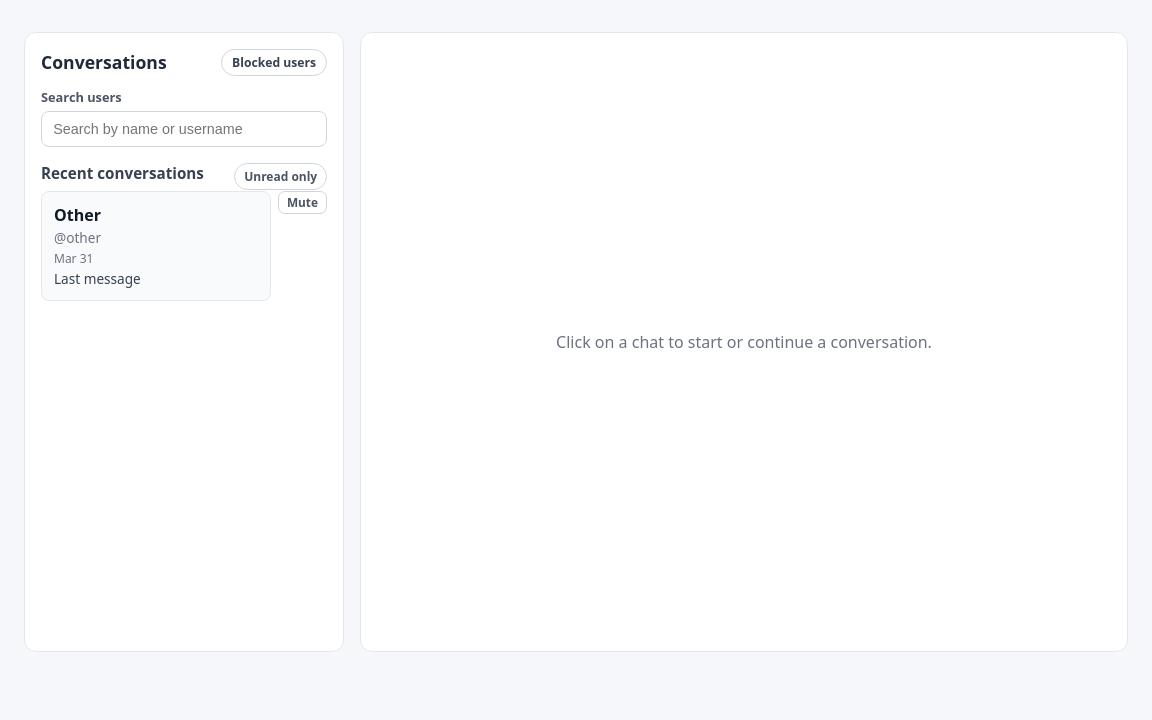
Test: Chat Page › shows blocked-user message when sending is forbidden
Step 1. Click the button with aria-label "Open recent conversation with Other" → click(156, 246), box 41,191 -> 271,301
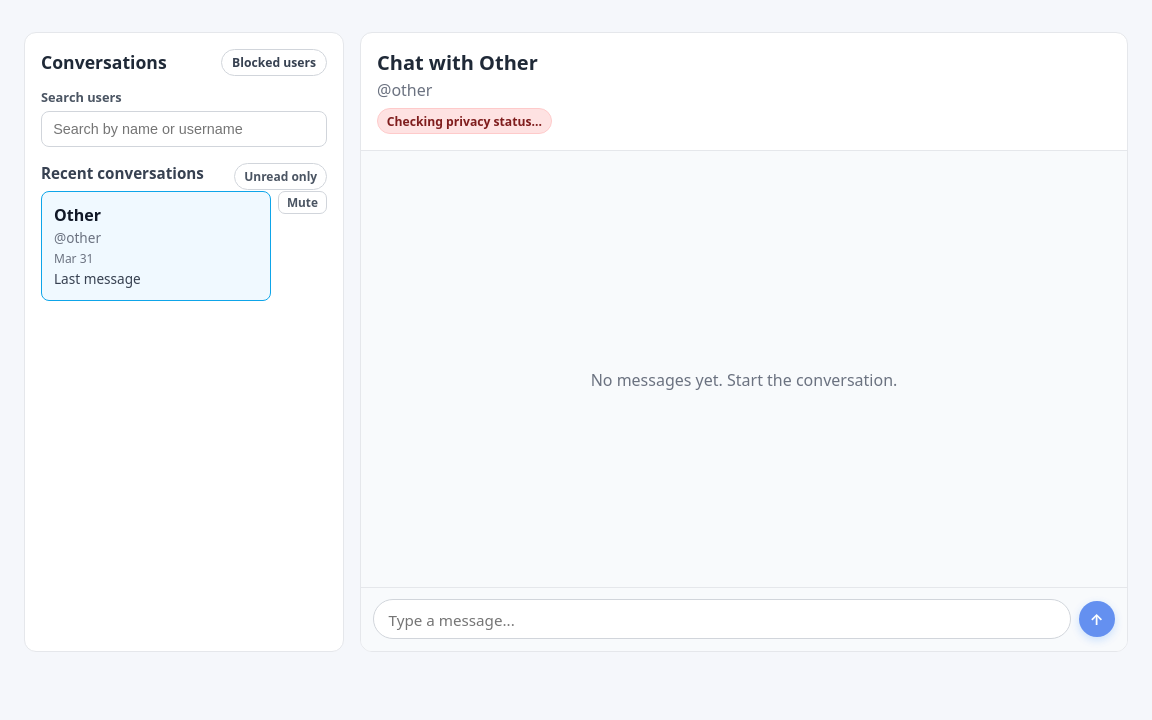
Check: the heading "Chat with Other" is shown, box 377,49 -> 538,76
Step 2. Type "Hello there" into the text box with placeholder "Type a message..." → (722, 620), box 374,600 -> 1071,640
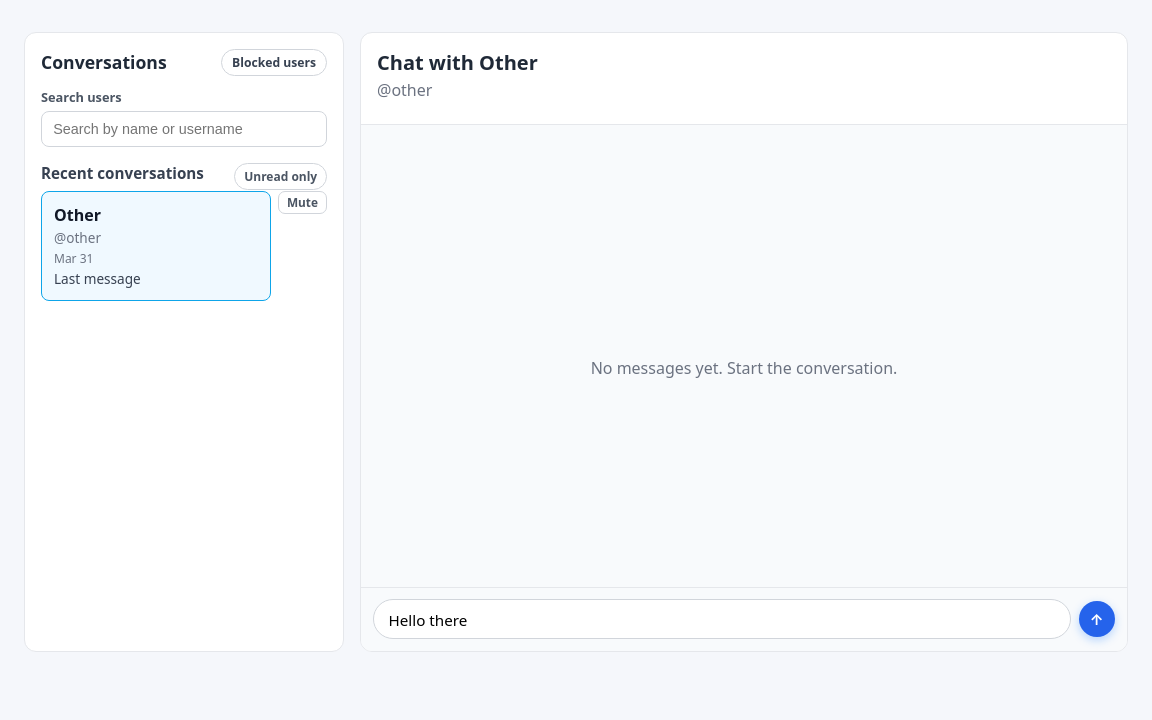
Step 3. Click the button named "Send message" → click(1096, 620), box 1078,602 -> 1114,638
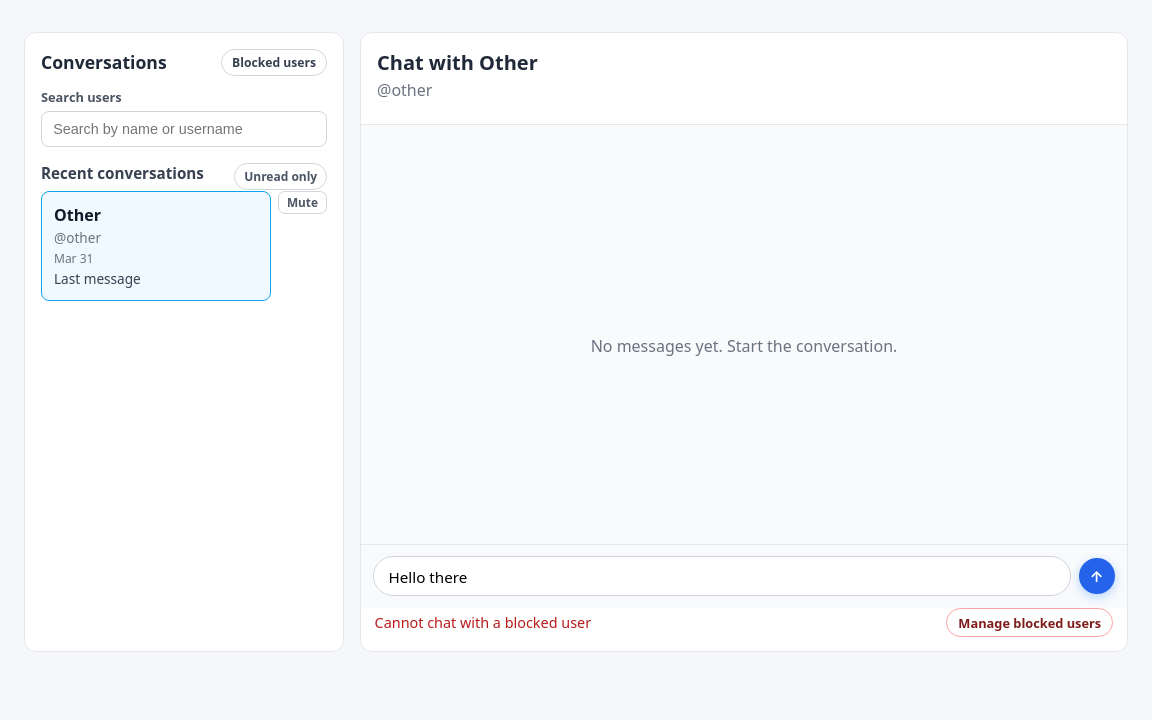
Check: the text "Cannot chat with a blocked user" is shown, box 375,613 -> 591,632
